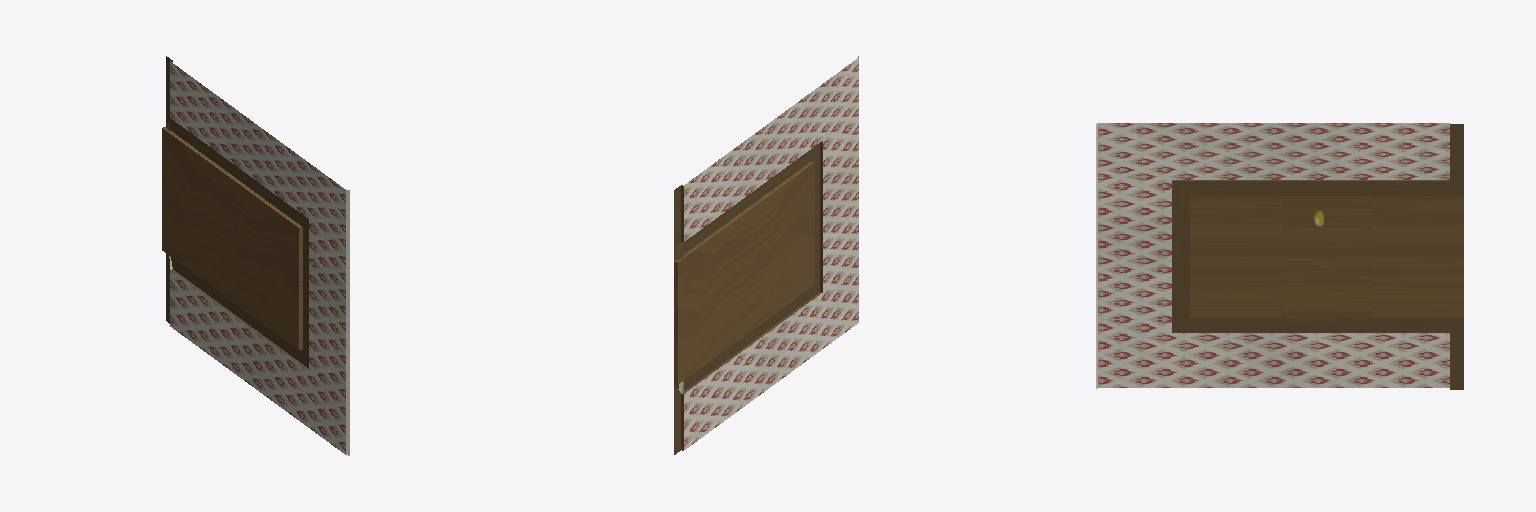
3 views of the same model, side by side, from view 1: azimuth 30°, elevation 25°; view 2: azimuth 150°, elevation 25°; view 3: azimuth 270°, elevation 25° (orthographic).
Visible parts, largest first — view 1: Plane, WeeDoor; view 2: Plane, WeeDoor; view 3: Plane, WeeDoor.
Boxes of the visible parts, <box> form: Plane: <box>163,56,349,455</box>; WeeDoor: <box>162,128,302,349</box>; Plane: <box>674,56,858,454</box>; WeeDoor: <box>674,162,814,384</box>; Plane: <box>1096,123,1463,389</box>; WeeDoor: <box>1190,196,1463,317</box>.
Bounding box in the file's own units: 0.0301 × 2 × 2.52.
2 materials, 2 textured.